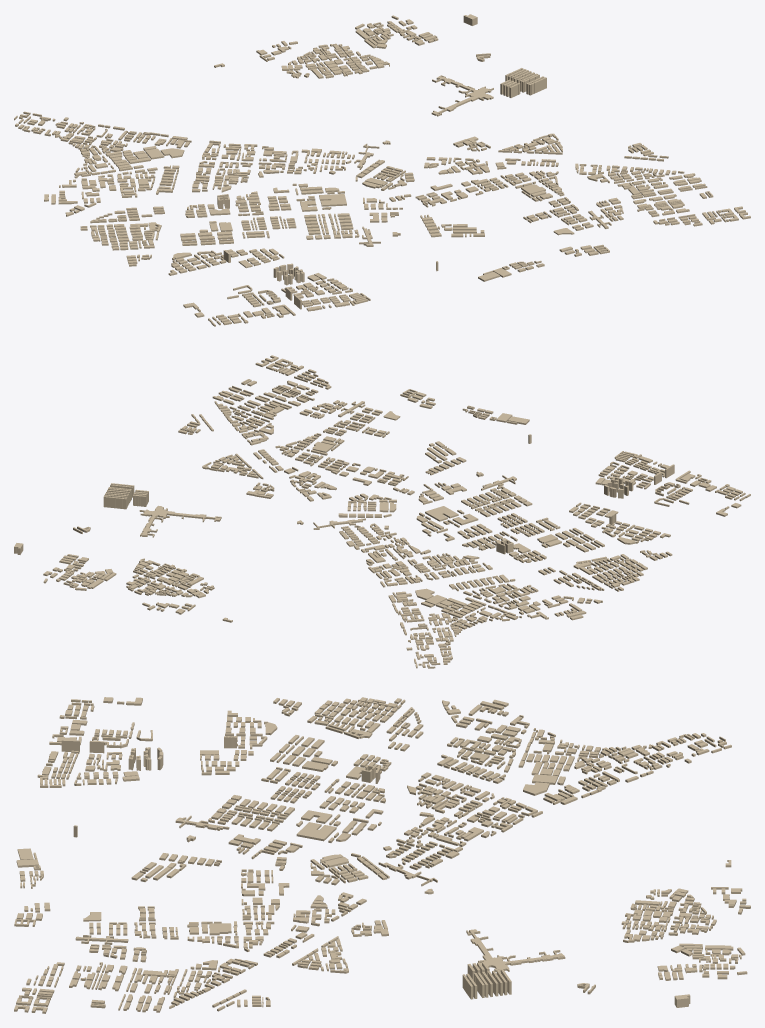
File: overview-estimated--6_6.glb
3 renders of one model, top to bottom at view 1: azimuth 30°, elevation 25°; view 2: azimuth 150°, elevation 25°; view 3: azimuth 270°, elevation 25°, orthographic. The views are drawn at different scales.
Bounding box in the file's own units: 4074 × 79.3 × 4029.
